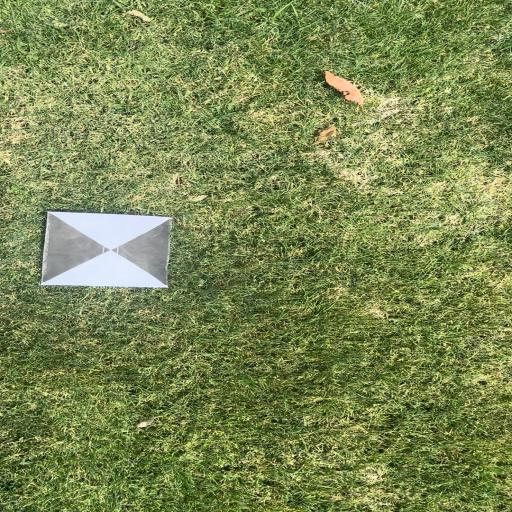target: (45, 211, 168, 287)
